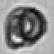correct: (3, 5, 50, 51)
